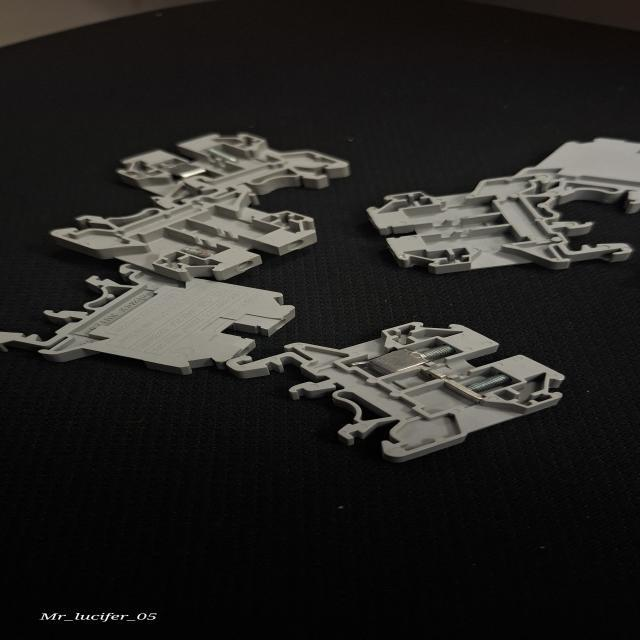Inverted: (0, 260, 298, 374)
Reject: (221, 319, 569, 459), (42, 177, 318, 278), (359, 178, 634, 272), (113, 132, 354, 195)
